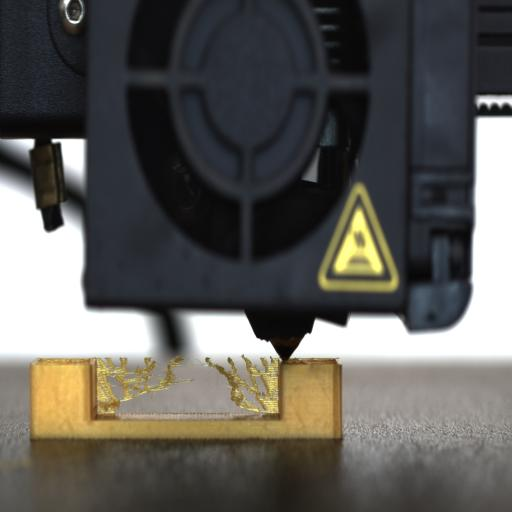stringing: (96, 353, 279, 415)
